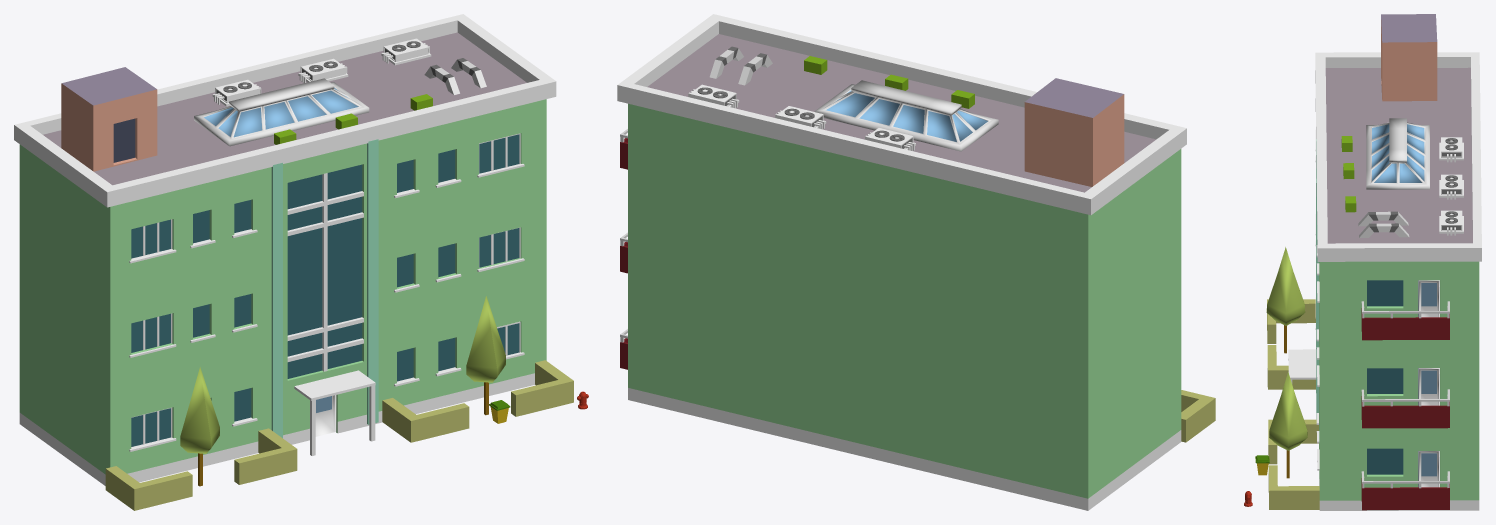
File: Building2_2.glb
3 renders of one model, left to right at view 1: azimuth 30°, elevation 25°; view 2: azimuth 150°, elevation 25°; view 3: azimuth 270°, elevation 25°, orthographic. The views are drawn at different scales.
Parts seen in each view (by area): view 1: Building2Root; view 2: Building2Root; view 3: Building2Root.
Part boxes in pixels (<box>): Building2Root: <box>14,14,588,510</box>; Building2Root: <box>617,14,1215,510</box>; Building2Root: <box>1244,14,1481,510</box>.
Bounding box in the file's own units: 19.86 × 14.39 × 9.86.
